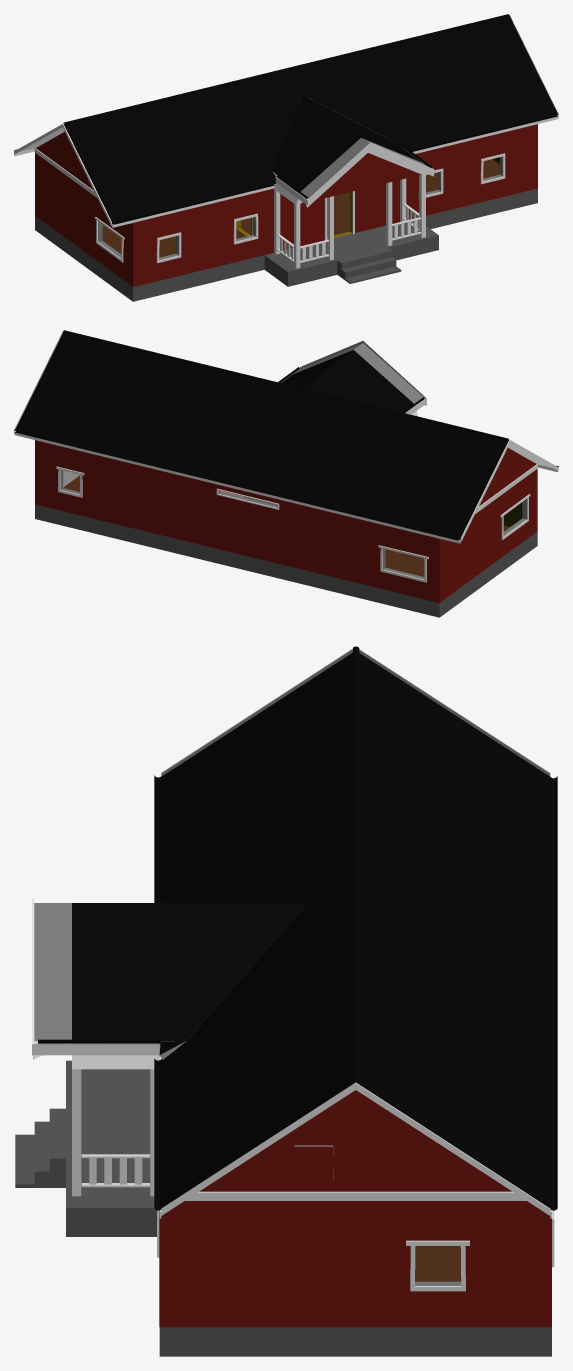
The model's file is Forest_House.glb.
3 views of the same model, one above another, from view 1: azimuth 30°, elevation 25°; view 2: azimuth 150°, elevation 25°; view 3: azimuth 270°, elevation 25° (orthographic). The views are drawn at different scales.
Parts seen in each view (by area): view 1: Forest_House; view 2: Forest_House; view 3: Forest_House.
Part boxes in pixels (x1,y1,x2,y2): Forest_House: (14,14,558,301); Forest_House: (14,330,558,617); Forest_House: (15,646,557,1356).
Bounding box in the file's own units: 22.12 × 6.98 × 11.61.
